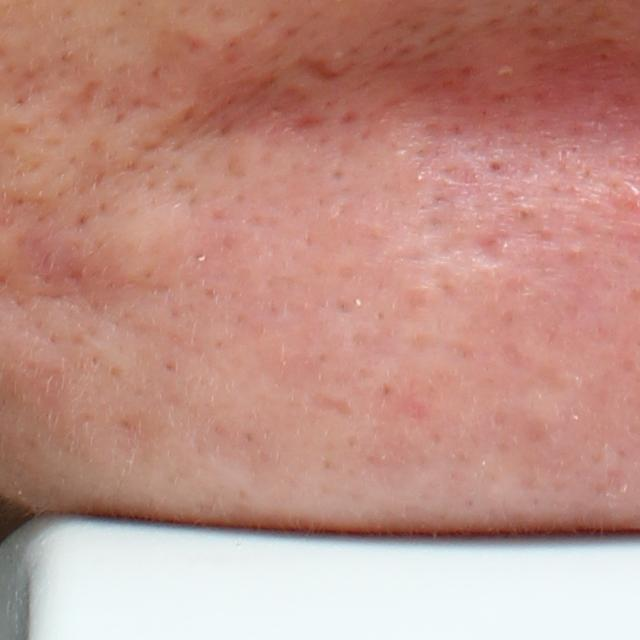atrophic_scar: (428, 232, 506, 270), (54, 77, 101, 123), (290, 53, 355, 83), (307, 394, 357, 421)
comedo: (486, 157, 507, 178)
hypertrophic_scar: (70, 188, 205, 297)
